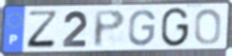2: (61, 10, 91, 50)
G: (159, 6, 191, 48), (127, 8, 158, 47)
O: (193, 7, 223, 46)
P: (93, 8, 127, 49)
Z: (26, 10, 61, 50)
